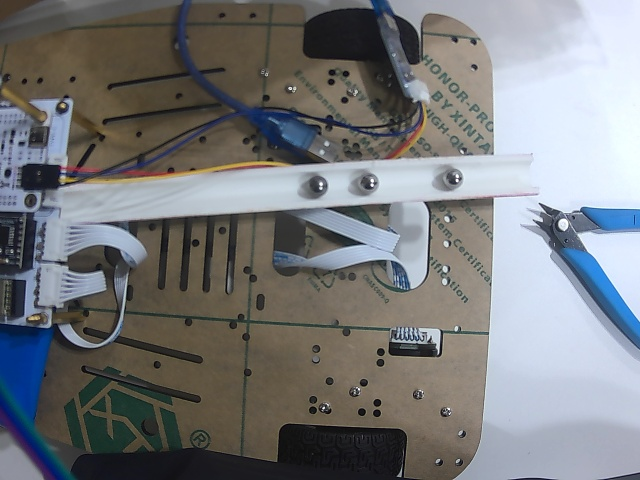steelball: (356, 172, 380, 193), (306, 175, 329, 196), (442, 169, 464, 189)
